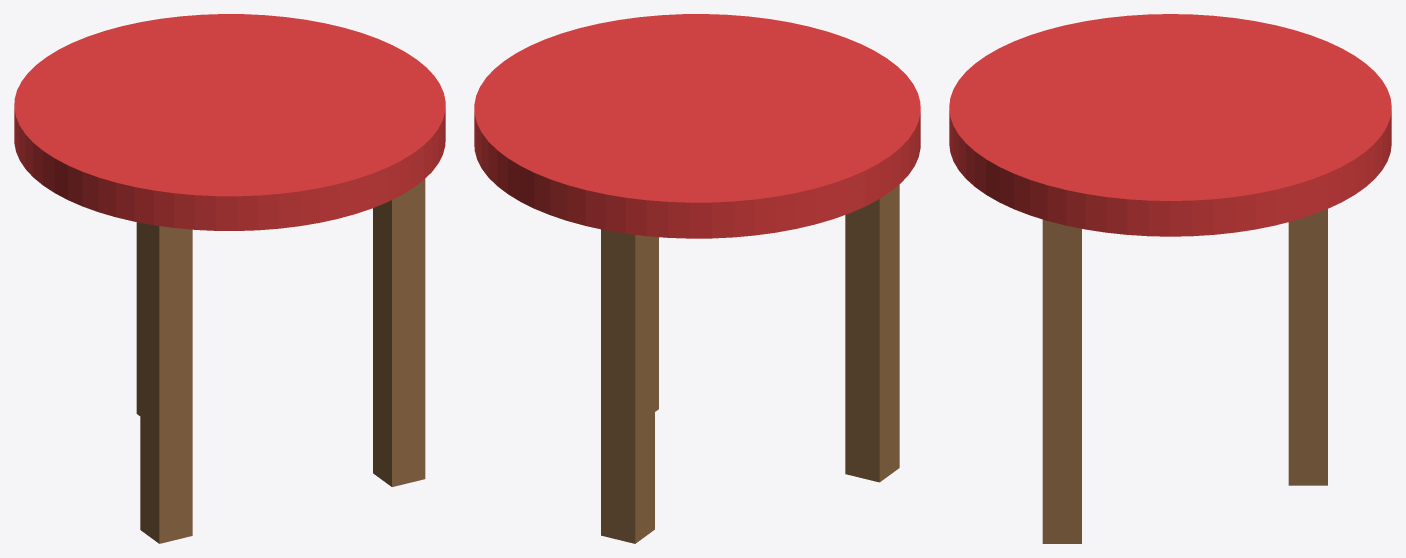
The model's file is stool.glb.
3 views of the same model, side by side, from view 1: azimuth 30°, elevation 25°; view 2: azimuth 150°, elevation 25°; view 3: azimuth 270°, elevation 25° (orthographic). The views are drawn at different scales.
Parts seen in each view (by area): view 1: ClaudeTop, ClaudeLegA, ClaudeLegB, ClaudeLegC; view 2: ClaudeTop, ClaudeLegC, ClaudeLegA, ClaudeLegB; view 3: ClaudeTop, ClaudeLegB, ClaudeLegC.
Part boxes in pixels (<box>): ClaudeTop: <box>14,14,445,230</box>; ClaudeLegA: <box>140,223,192,543</box>; ClaudeLegB: <box>373,179,425,486</box>; ClaudeLegC: <box>136,222,140,415</box>; ClaudeTop: <box>474,14,920,238</box>; ClaudeLegC: <box>601,229,654,543</box>; ClaudeLegA: <box>845,184,899,482</box>; ClaudeLegB: <box>655,237,658,411</box>; ClaudeTop: <box>949,14,1391,236</box>; ClaudeLegB: <box>1042,219,1081,543</box>; ClaudeLegC: <box>1288,209,1327,485</box>.
Size of the model in its own units: 0.9 by 0.83 by 0.9.
